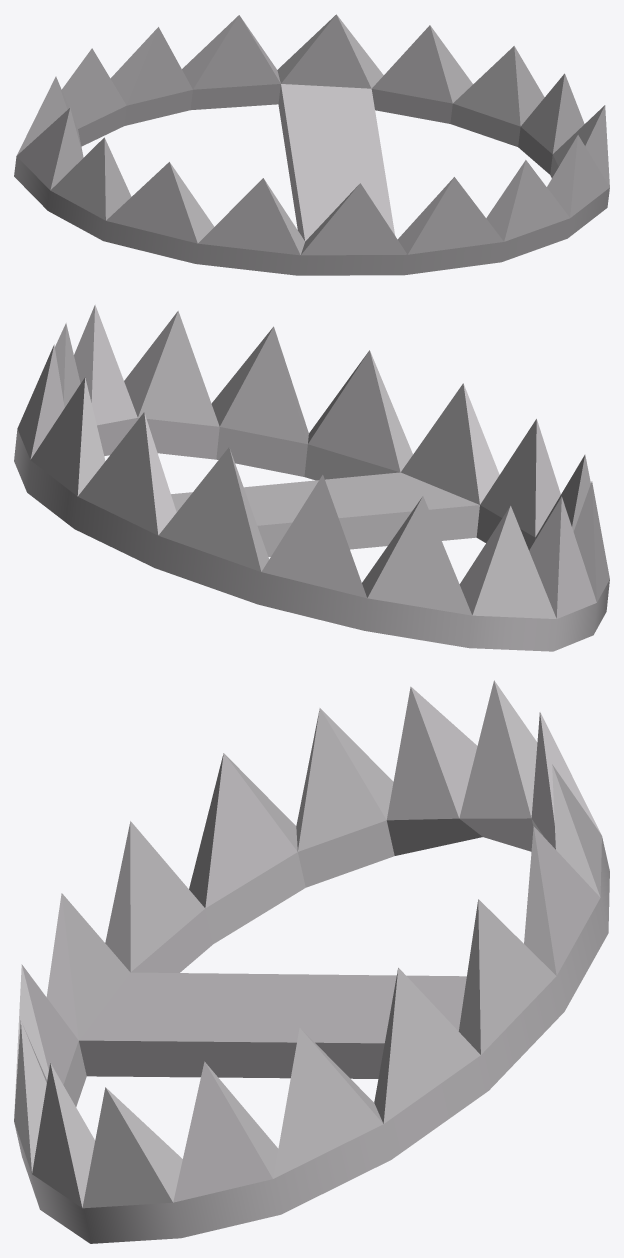
File: bearttrap.FBX
3 renders of one model, top to bottom at view 1: azimuth 30°, elevation 25°; view 2: azimuth 150°, elevation 25°; view 3: azimuth 270°, elevation 25°, orthographic. The views are drawn at different scales.
Visible parts, largest first — view 1: node_id4; view 2: node_id4; view 3: node_id4.
Boxes of the visible parts, left/top/right/bottom form: node_id4: left=14, top=14, right=609, bottom=275; node_id4: left=14, top=304, right=609, bottom=651; node_id4: left=14, top=680, right=609, bottom=1243.
Bounding box in the file's own units: 0.7807 × 0.2475 × 0.5268.
Materials: 1 (1 with a texture image).
